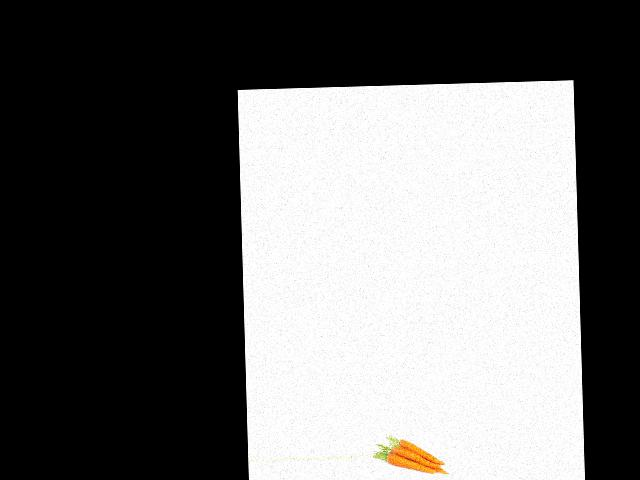carrot: (381, 452, 436, 477)
